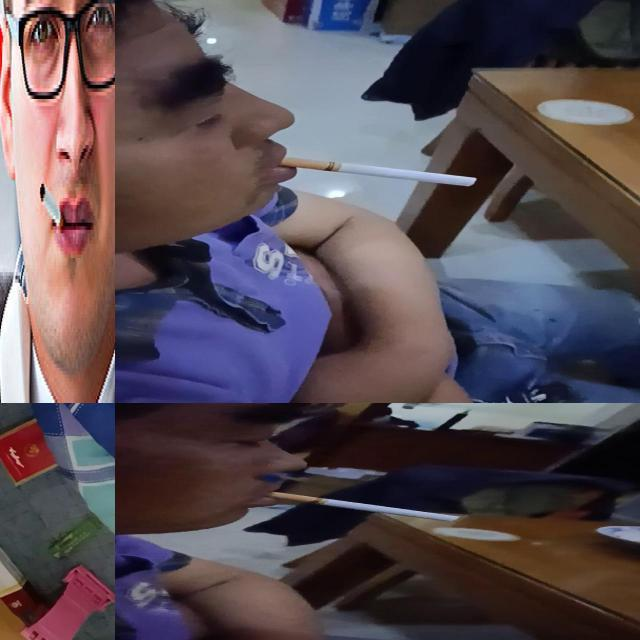smoke: (266, 492, 466, 522), (278, 158, 482, 186), (39, 181, 65, 234)
